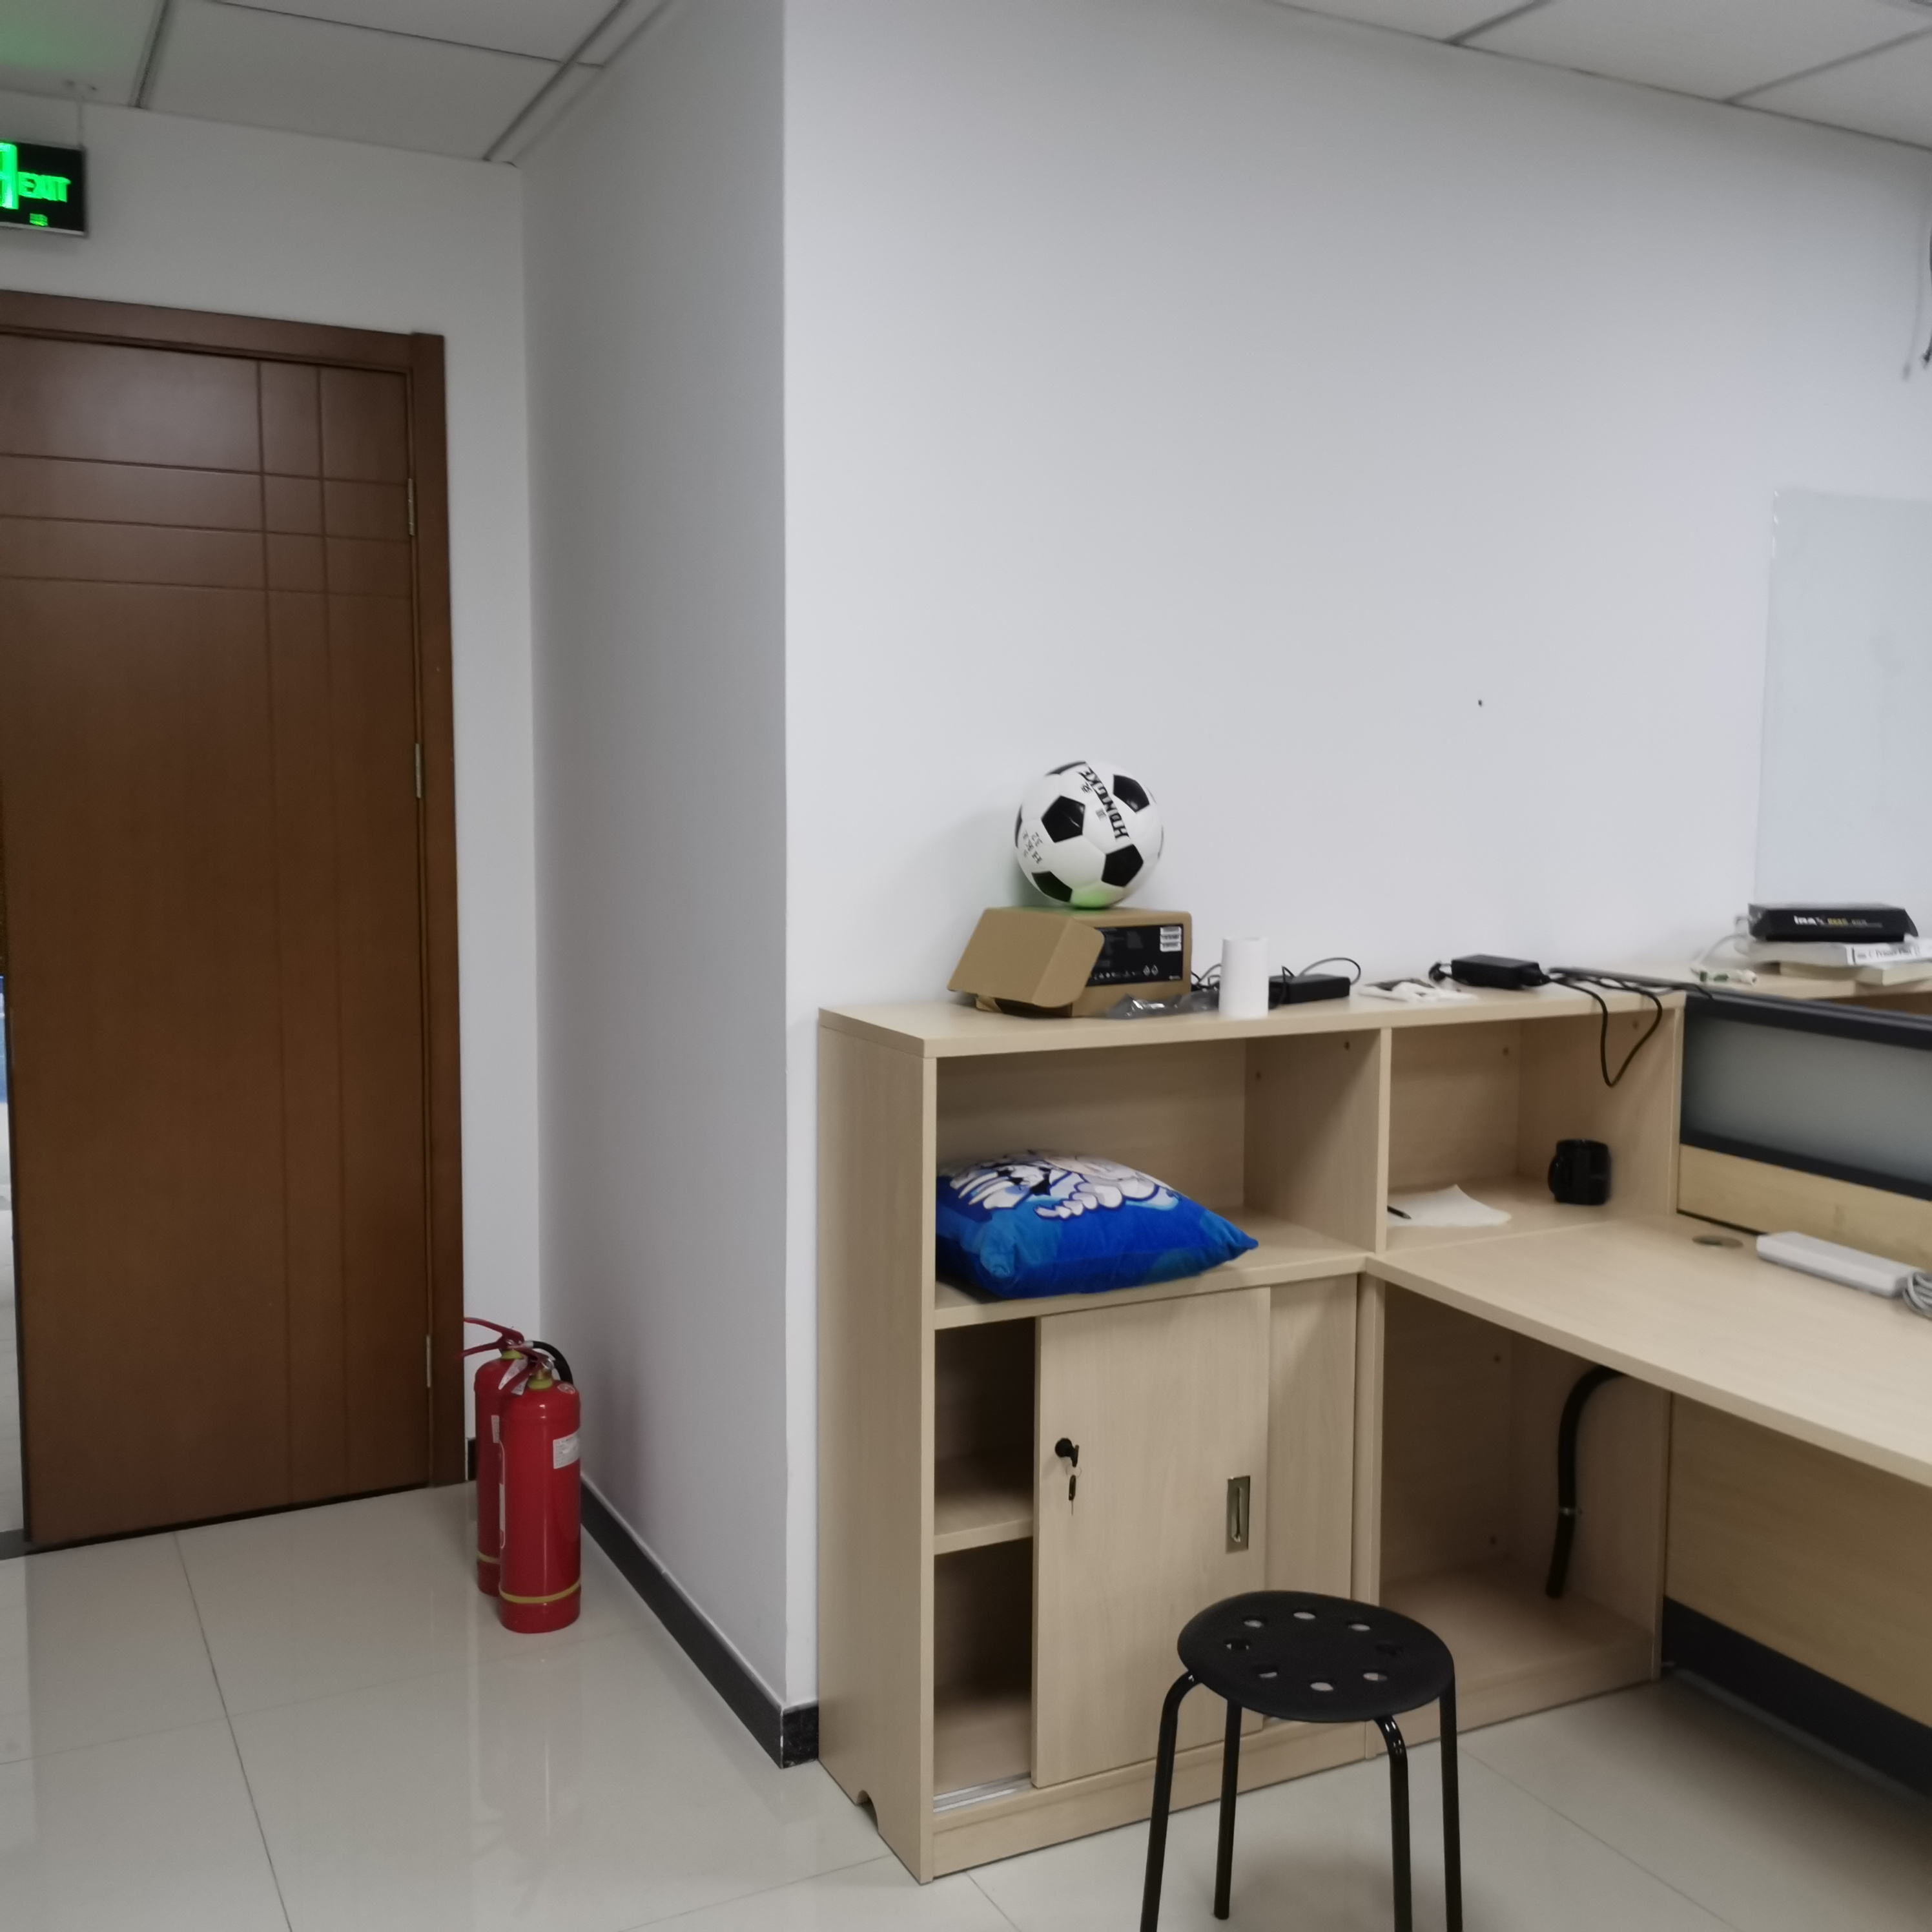football: (1014, 759, 1164, 908)
